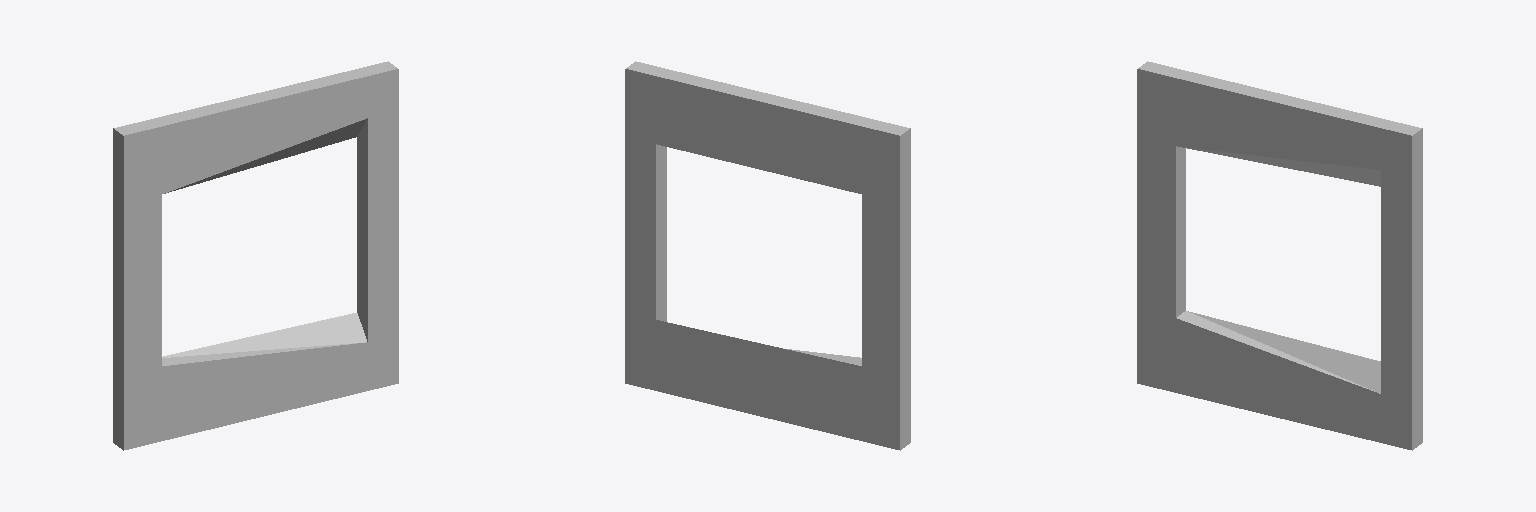
File: entrancedoor.obj
The picture shows the model from 3 angles: view 1: azimuth 30°, elevation 25°; view 2: azimuth 150°, elevation 25°; view 3: azimuth 330°, elevation 25°; orthographic projection.
Visible parts, largest first — view 1: pCube4; view 2: pCube4; view 3: pCube4.
Boxes of the visible parts, <box> form: pCube4: <box>113,61,398,450</box>; pCube4: <box>625,61,910,450</box>; pCube4: <box>1137,61,1422,450</box>.
Bounding box in the file's own units: 20.29 × 22.21 × 1.3.